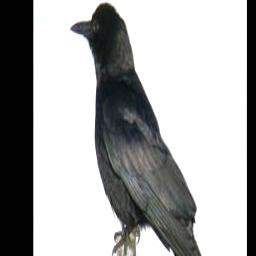Crow: (68, 0, 218, 256)
